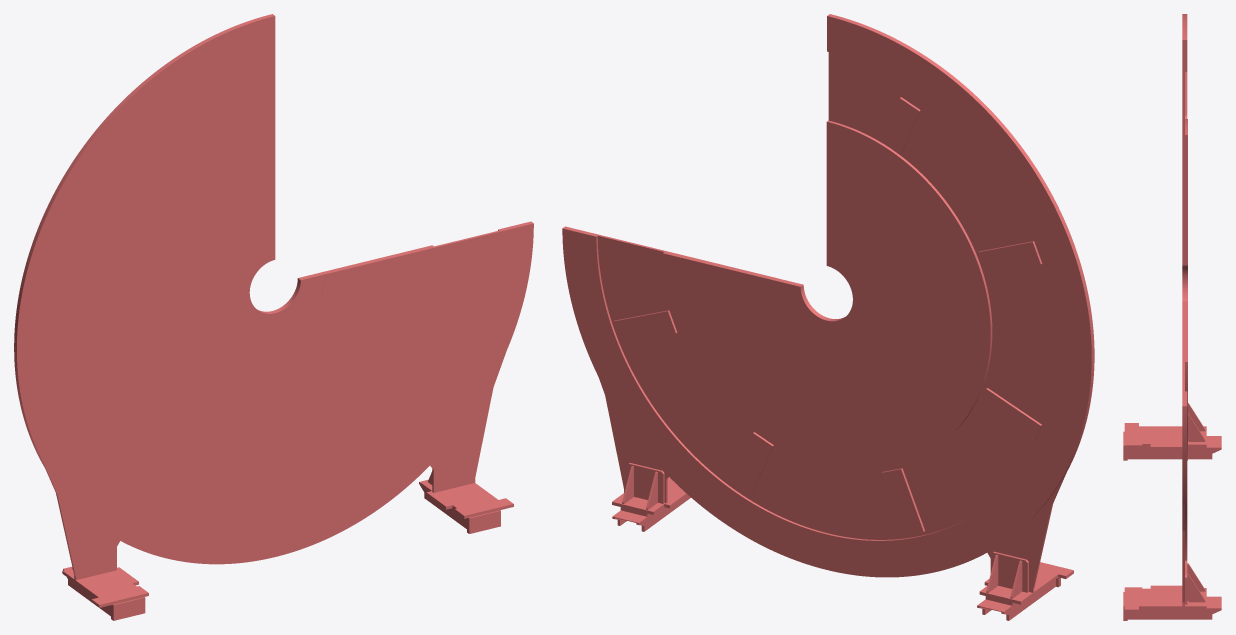
File: Small-Wheel-NJD-SideA-cut4.glb
3 renders of one model, left to right at view 1: azimuth 30°, elevation 25°; view 2: azimuth 150°, elevation 25°; view 3: azimuth 270°, elevation 25°, orthographic. The views are drawn at different scales.
Visible parts, largest first — view 1: null; view 2: null; view 3: null.
Part boxes in pixels (bbox=[...]): null: bbox=[14, 14, 533, 620]; null: bbox=[562, 14, 1094, 620]; null: bbox=[1123, 14, 1221, 620].
Bounding box in the file's own units: 8.72 × 8.72 × 1.56.
